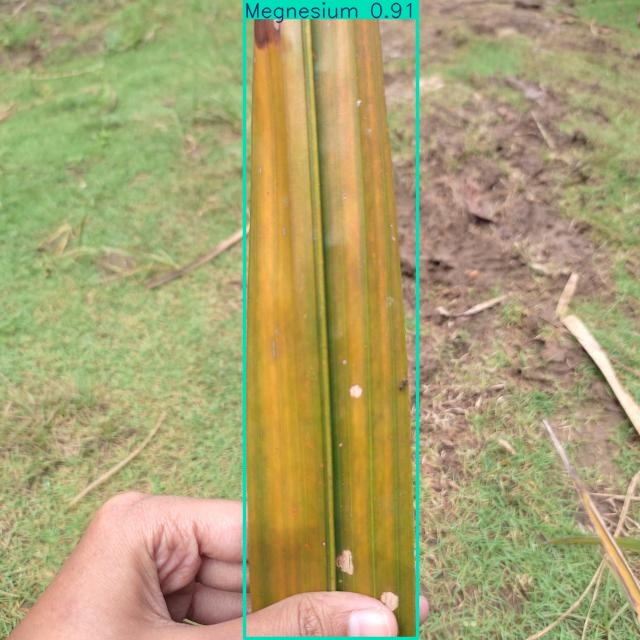Megnesium: (245, 0, 418, 639)
